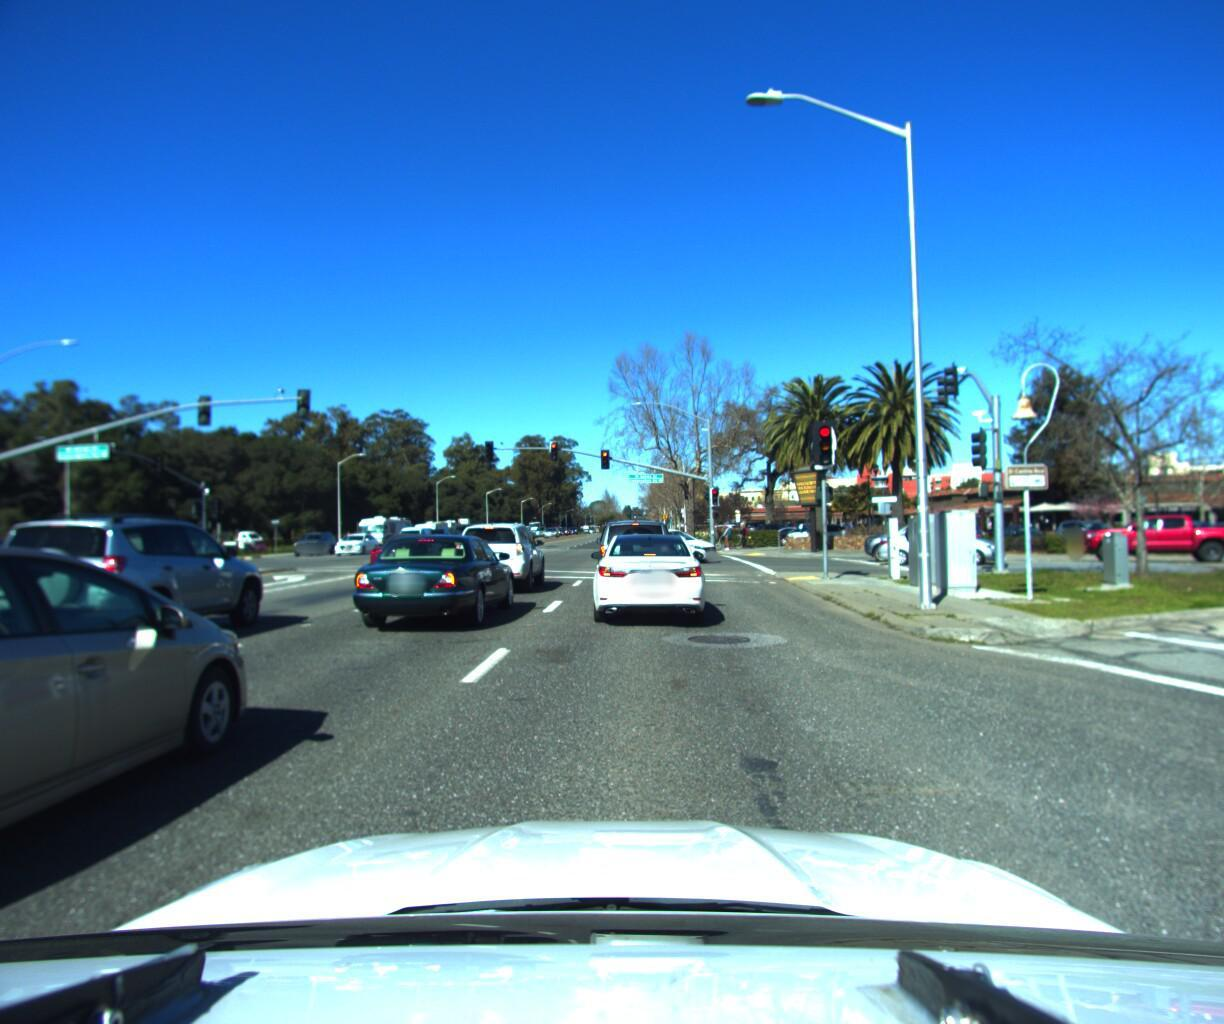car: (0, 537, 282, 1024), (0, 520, 276, 677), (346, 534, 521, 644), (584, 526, 716, 635), (1072, 505, 1224, 561), (455, 517, 550, 599), (858, 508, 1002, 561), (594, 513, 676, 592), (866, 520, 1008, 564), (363, 527, 462, 584), (616, 524, 725, 563), (0, 538, 88, 573), (291, 529, 343, 554), (330, 533, 383, 557), (808, 516, 847, 543), (779, 523, 815, 550), (451, 517, 485, 546)
other_vehicle: (350, 513, 417, 559), (394, 525, 438, 553)
